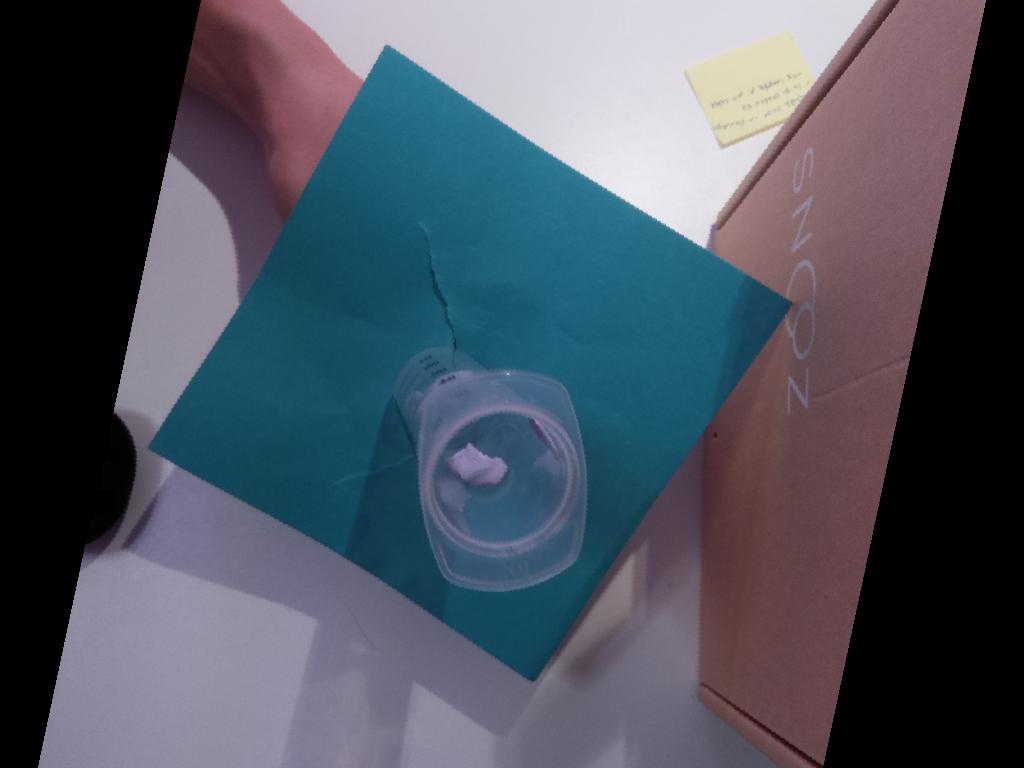dirty: (417, 370, 589, 590)
